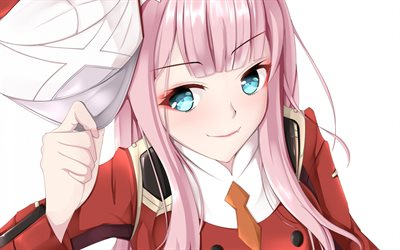zeroTwo: (113, 1, 294, 163)
